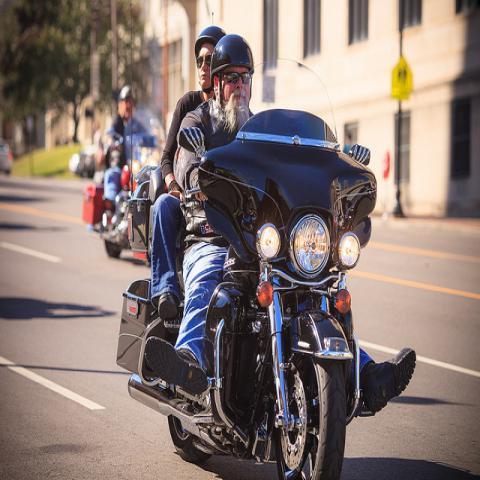car: (68, 144, 95, 177), (0, 138, 13, 174)
motorcycle: (115, 107, 380, 473), (82, 103, 166, 260), (129, 166, 169, 260)
